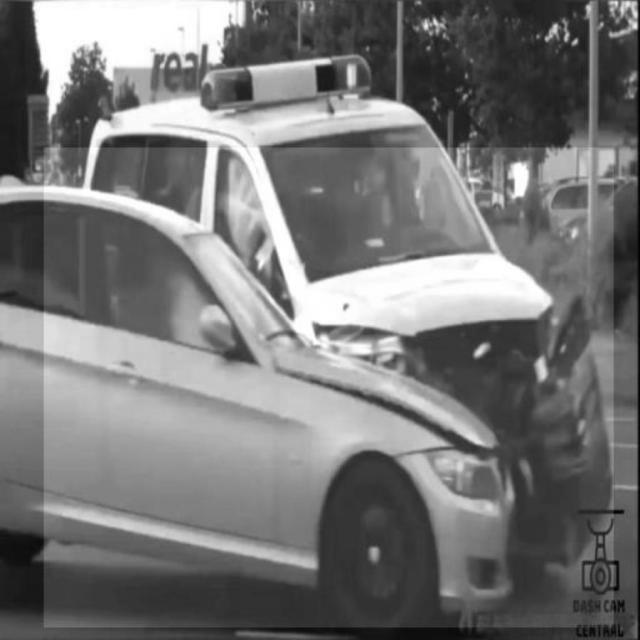accident: (44, 147, 614, 627)
